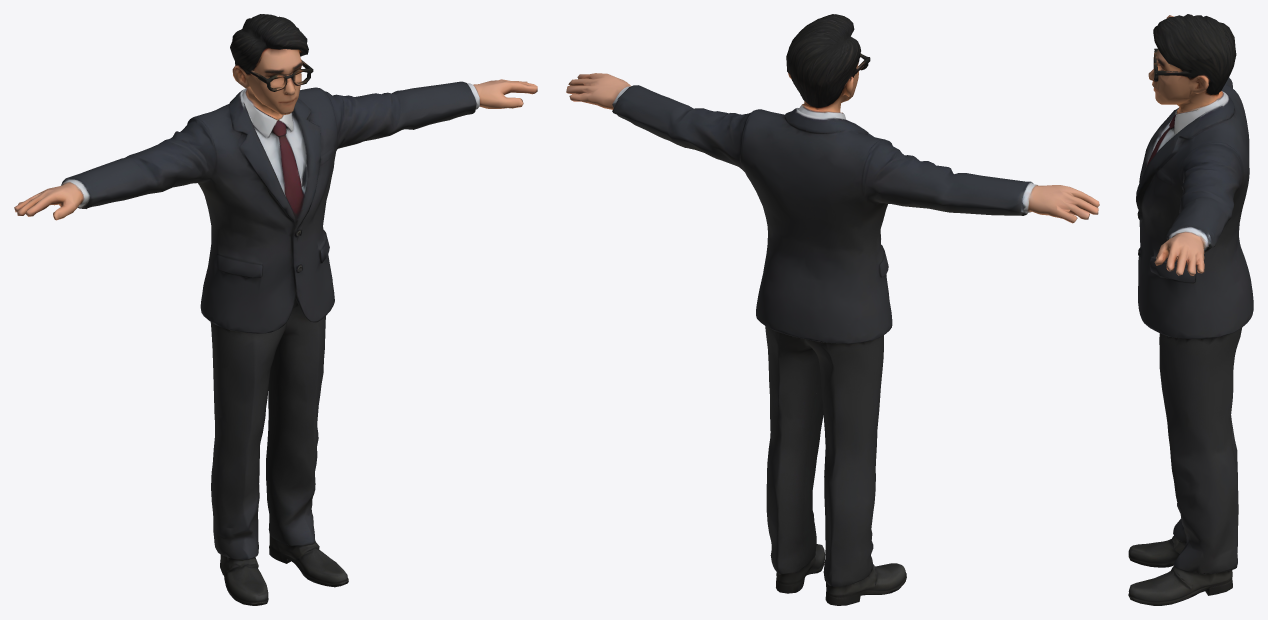
The model's file is leader-v1.glb.
3 renders of one model, left to right at view 1: azimuth 30°, elevation 25°; view 2: azimuth 150°, elevation 25°; view 3: azimuth 270°, elevation 25°, orthographic.
Parts seen in each view (by area): view 1: node_07c93937-226a-4136-97f4-5e695404d9da; view 2: node_07c93937-226a-4136-97f4-5e695404d9da; view 3: node_07c93937-226a-4136-97f4-5e695404d9da.
Part boxes in pixels (x1=…): node_07c93937-226a-4136-97f4-5e695404d9da: x1=14, y1=14, x2=537, y2=605; node_07c93937-226a-4136-97f4-5e695404d9da: x1=566, y1=14, x2=1099, y2=605; node_07c93937-226a-4136-97f4-5e695404d9da: x1=1128, y1=14, x2=1253, y2=605.
Size of the model in its own units: 1.8 by 1.85 by 0.373.
1 material, 1 textured.
